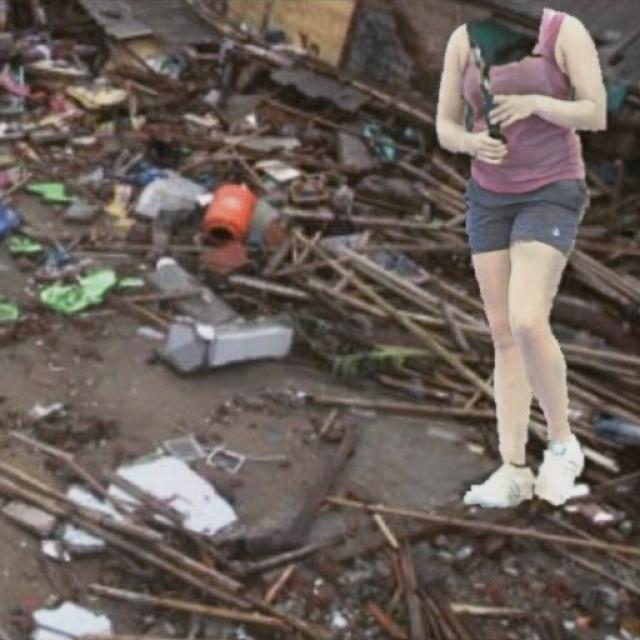Person in Rubble: (436, 8, 605, 506)
